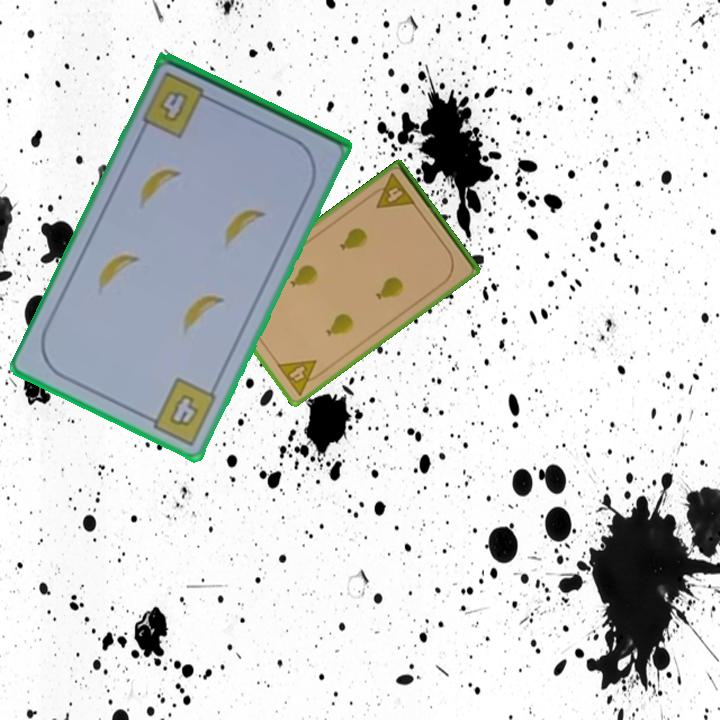4b: (140, 374, 220, 449), (138, 68, 219, 141)
4p: (273, 356, 327, 398), (366, 170, 418, 212)
